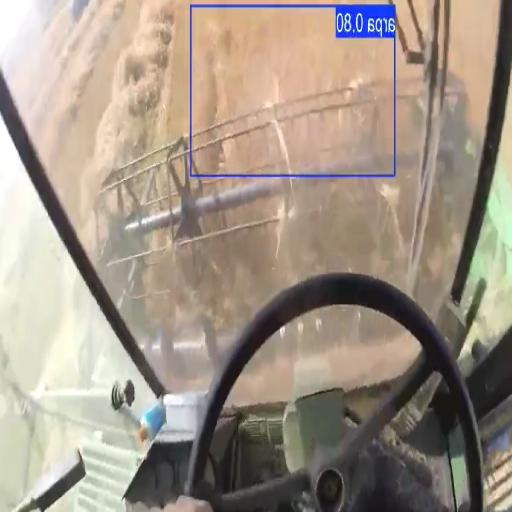arpa: (128, 24, 390, 212), (136, 219, 320, 328)
